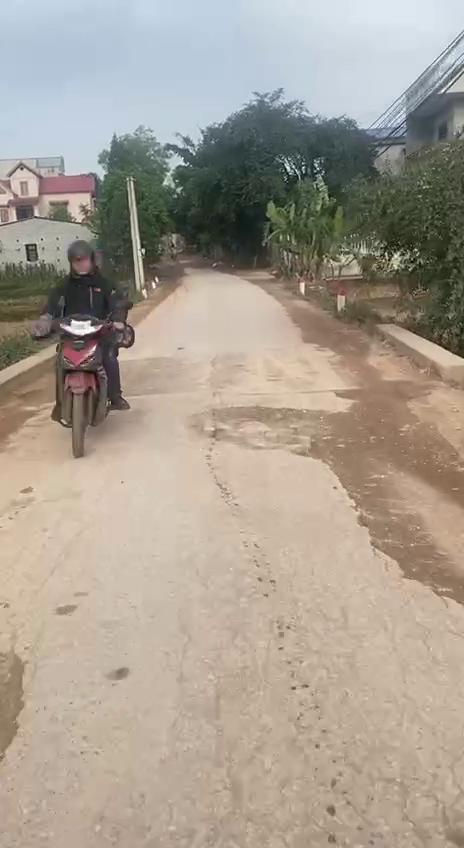pothole: (196, 394, 348, 453)
